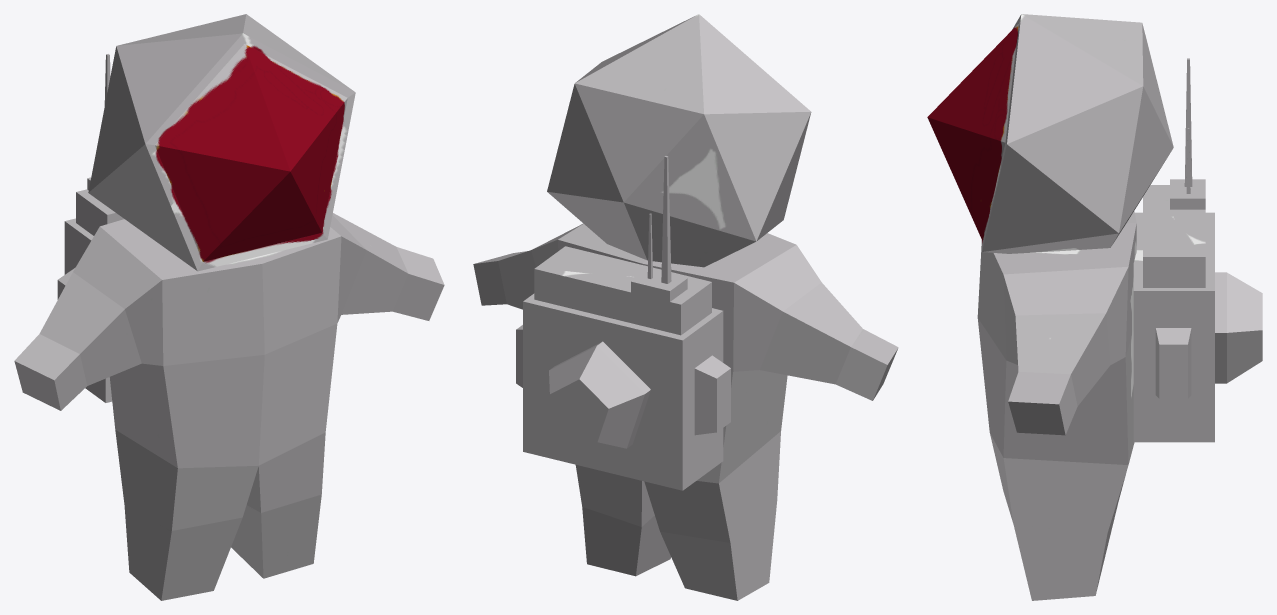
Rendered from AstronautShadow.fbx.
The picture shows the model from 3 angles, left to right: view 1: azimuth 30°, elevation 25°; view 2: azimuth 150°, elevation 25°; view 3: azimuth 270°, elevation 25°; orthographic projection.
Parts seen in each view (by area): view 1: node_id29 (×3); view 2: node_id29 (×2); view 3: node_id29 (×3).
Boxes of the visible parts, x1,y1,x2,y2 form: node_id29 (×3): (14,14,444,600); node_id29 (×2): (473,14,898,600); node_id29 (×3): (927,14,1262,600).
Size of the model in its own units: 0.4049 by 0.512 by 0.282.
3 materials, 3 textured.
